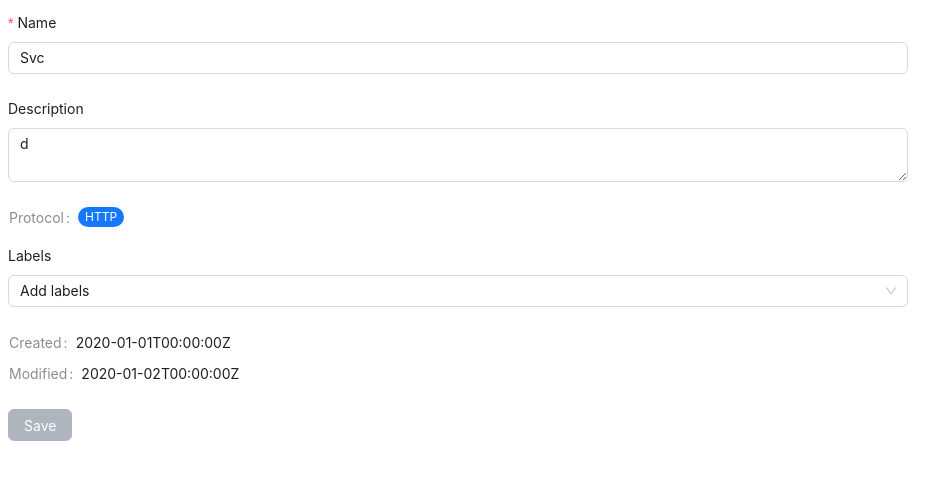
Test: ServiceParametersTab › shows save error when updateService fails
The image size is (925, 485).
Replace the text in the field labelled "Name" with "Z" at (458, 58), box [8,42,908,74]
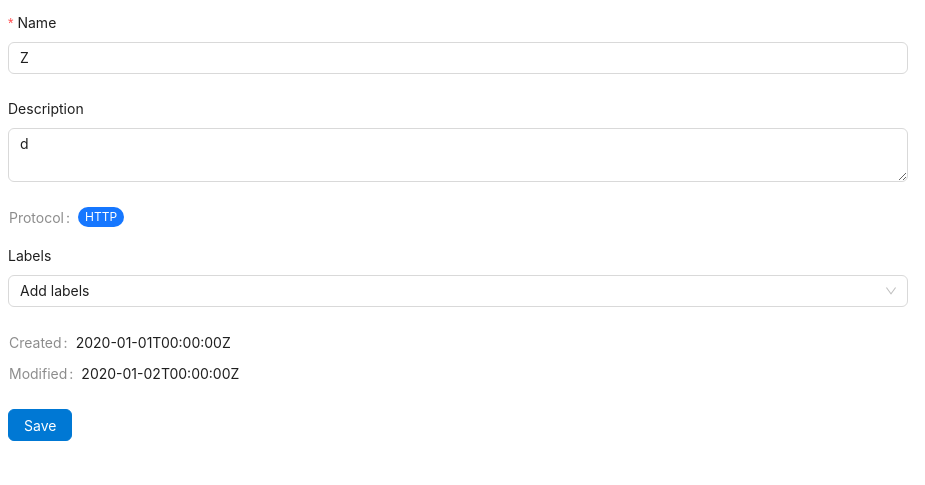
Click the button "Save".
click(40, 425)  # box [8,409,72,441]
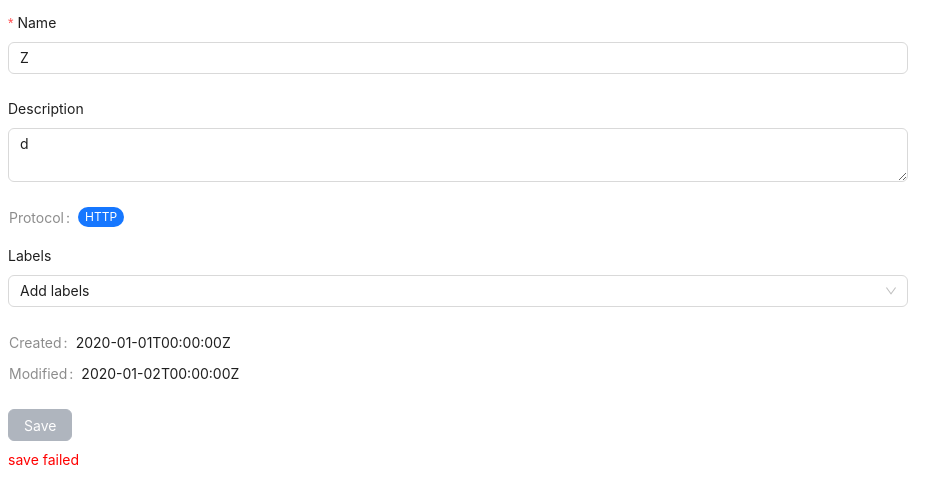
Check: the text "save failed" is shown, box [8,451,79,468]
